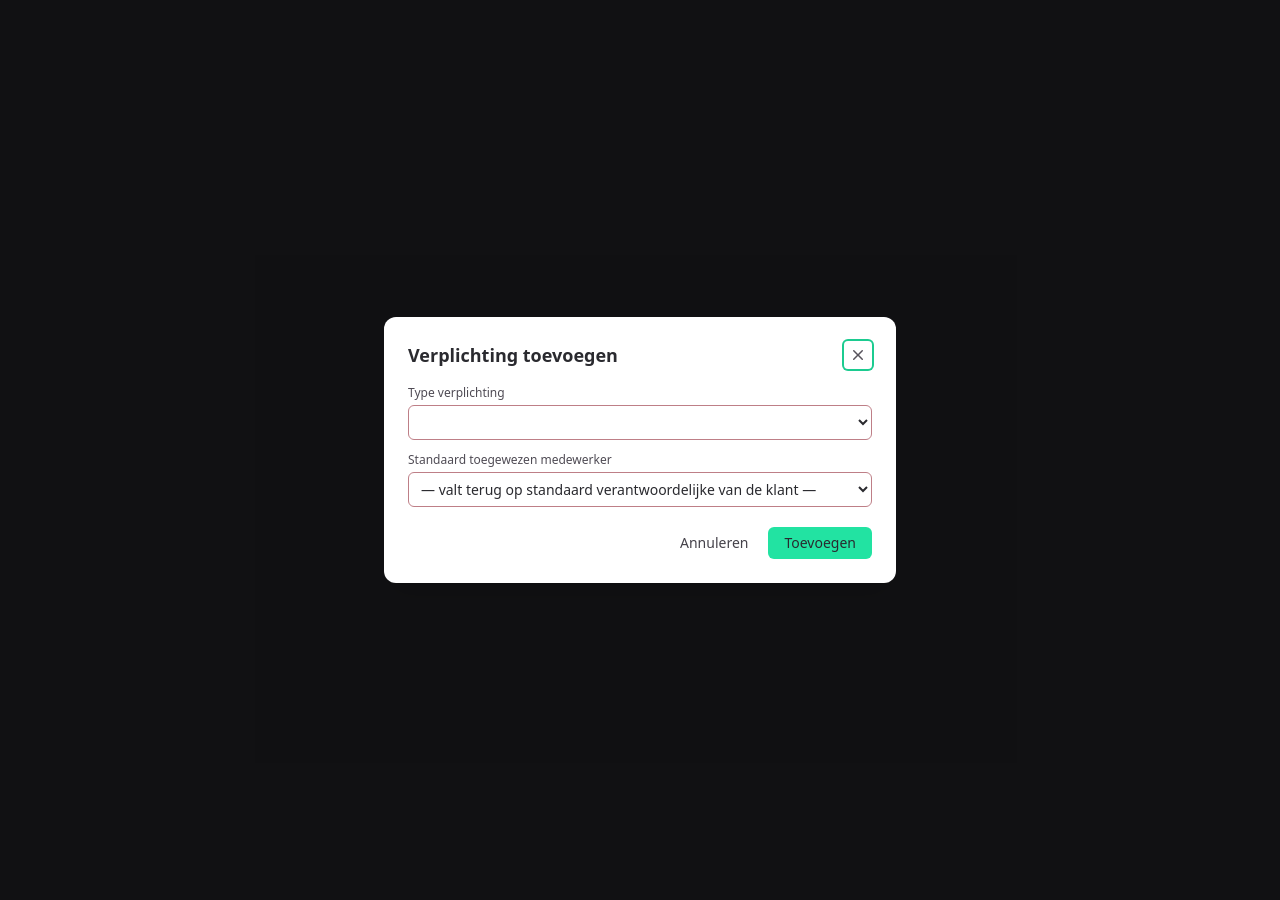
Test: ClientObligationFormModal — validation & error handling › shows an error and does not call onSubmit when no obligation types exist to choose from
Click the button "Toevoegen".
click(820, 543)  # box left=768, top=527, right=872, bottom=559
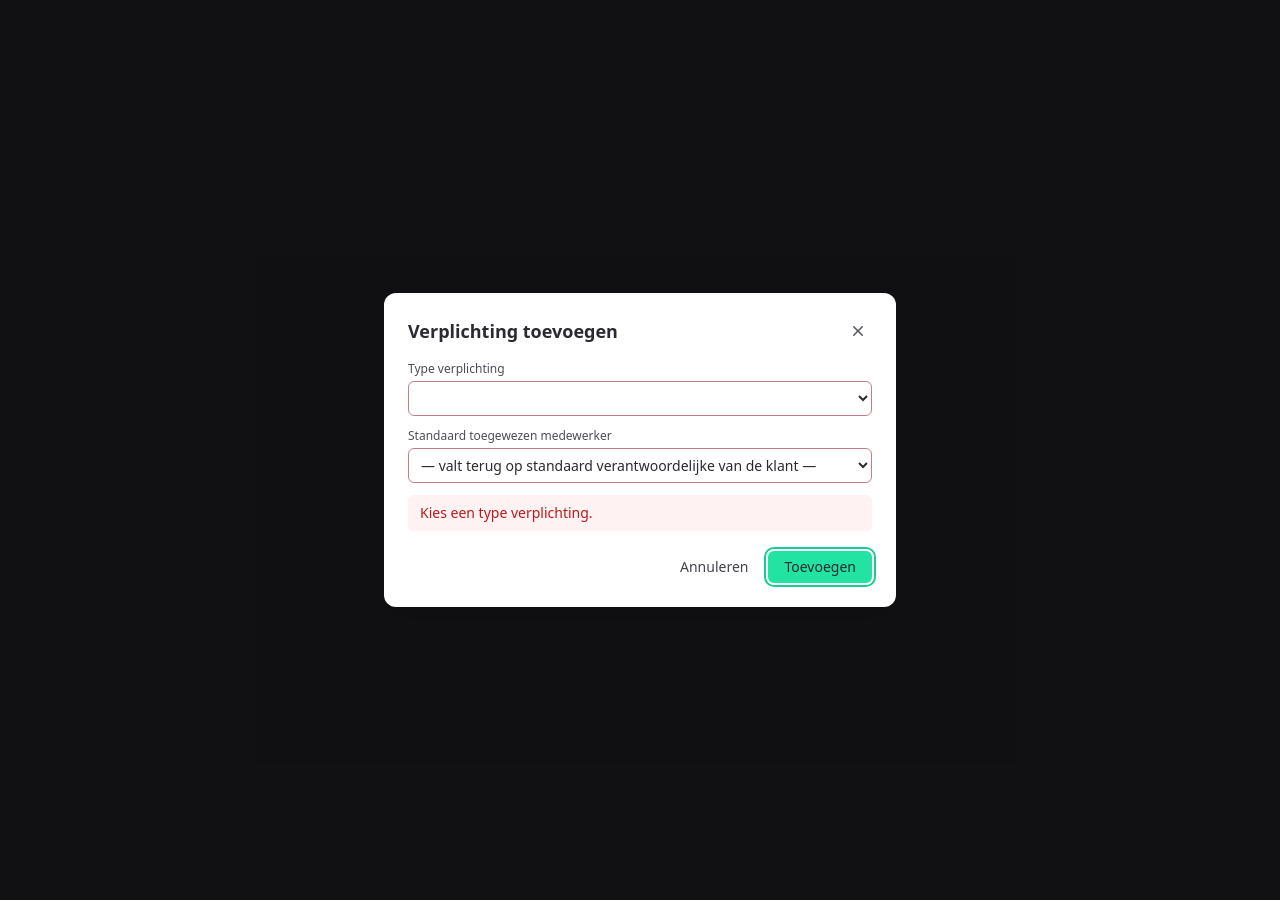
Expected: the message reads "Kies een type verplichting.", left=420, top=503, right=593, bottom=522
